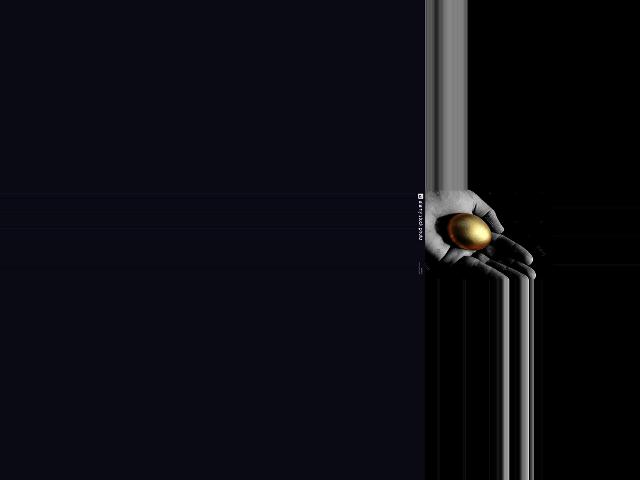egg: (447, 214, 491, 250)
